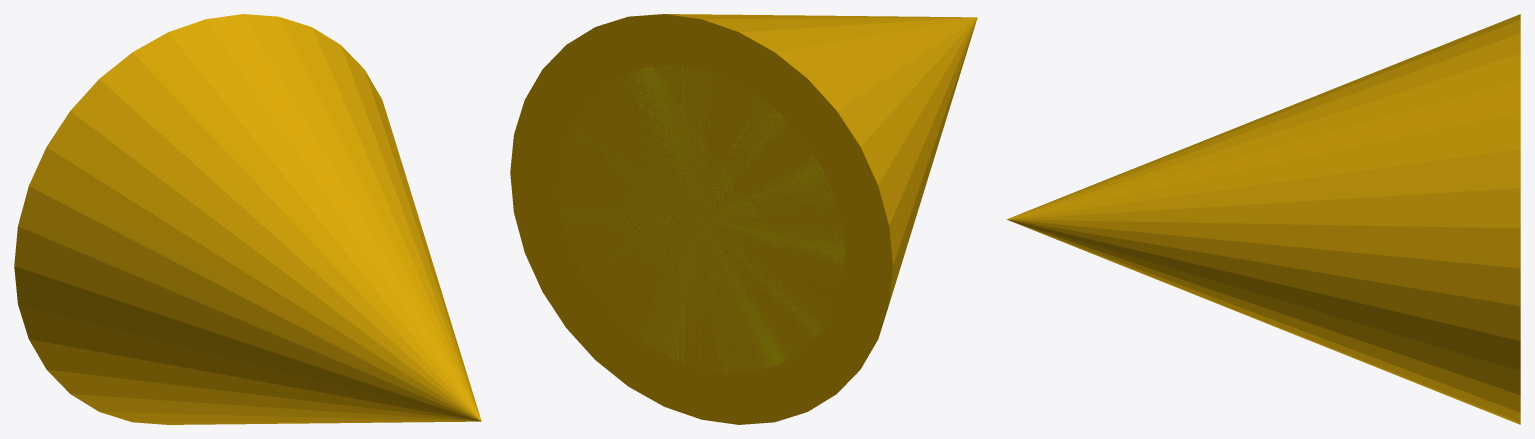
File: flame.glb
3 renders of one model, left to right at view 1: azimuth 30°, elevation 25°; view 2: azimuth 150°, elevation 25°; view 3: azimuth 270°, elevation 25°, orthographic. The views are drawn at different scales.
Parts seen in each view (by area): view 1: world; view 2: world; view 3: world.
Boxes of the visible parts, left/top/right/bottom form: world: left=14, top=14, right=481, bottom=424; world: left=510, top=14, right=977, bottom=424; world: left=1006, top=14, right=1520, bottom=424.
Bounding box in the file's own units: 0.4 × 0.4 × 0.5.
